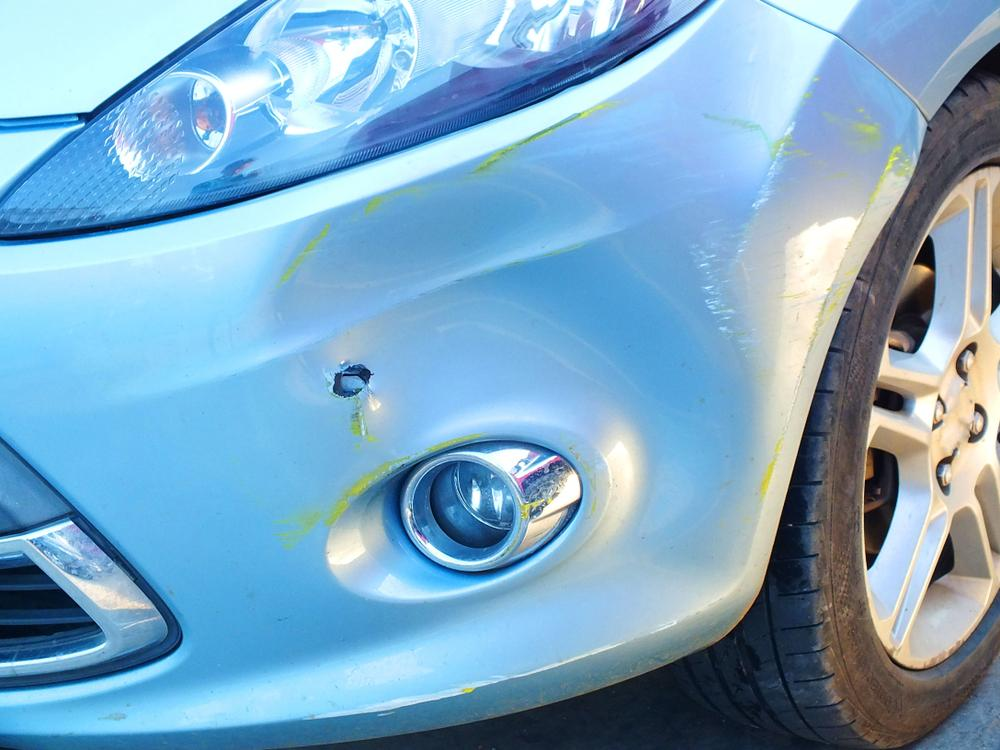dent: (266, 162, 749, 543)
scratch: (685, 80, 916, 383), (303, 612, 690, 724)
